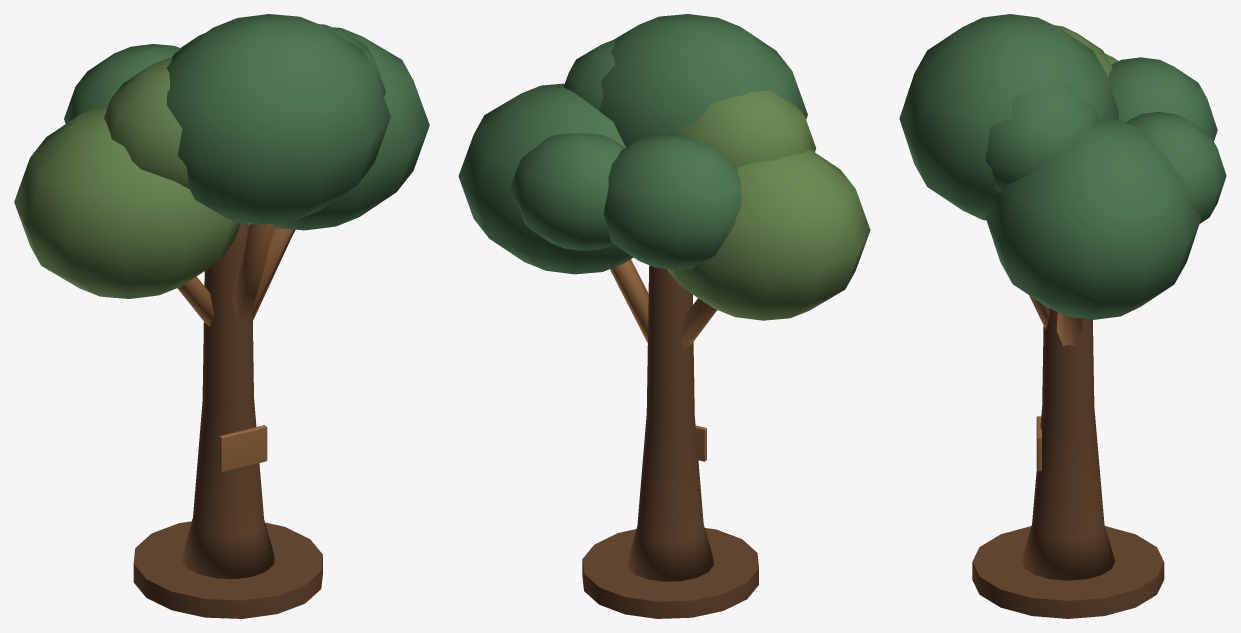
File: S066_broadleaf_tree_rebuilt.glb
3 renders of one model, left to right at view 1: azimuth 30°, elevation 25°; view 2: azimuth 150°, elevation 25°; view 3: azimuth 270°, elevation 25°, orthographic. The views are drawn at different scales.
Visible parts, largest first — view 1: Broad_leaf_midgreen, Young_leaf_lighter_green, Oak_end_and_edge.001, Oiled_warm_oak.001; view 2: Broad_leaf_midgreen, Young_leaf_lighter_green, Oak_end_and_edge.001, Oiled_warm_oak.001; view 3: Broad_leaf_midgreen, Oak_end_and_edge.001, Oiled_warm_oak.001, Young_leaf_lighter_green.
Part boxes in pixels (box(x1,y1,x2,y2)): Broad_leaf_midgreen: box(64, 14, 429, 230); Young_leaf_lighter_green: box(14, 57, 240, 298); Oak_end_and_edge.001: box(133, 223, 322, 618); Oiled_warm_oak.001: box(177, 223, 295, 471); Broad_leaf_midgreen: box(458, 14, 807, 274); Young_leaf_lighter_green: box(667, 91, 870, 320); Oak_end_and_edge.001: box(582, 265, 758, 618); Oiled_warm_oak.001: box(610, 259, 716, 461); Broad_leaf_midgreen: box(899, 14, 1226, 319); Oak_end_and_edge.001: box(972, 308, 1164, 618); Oiled_warm_oak.001: box(1029, 295, 1082, 471); Young_leaf_lighter_green: box(1055, 25, 1118, 77).
Size of the model in its own units: 2.4 by 3.26 by 1.74.
